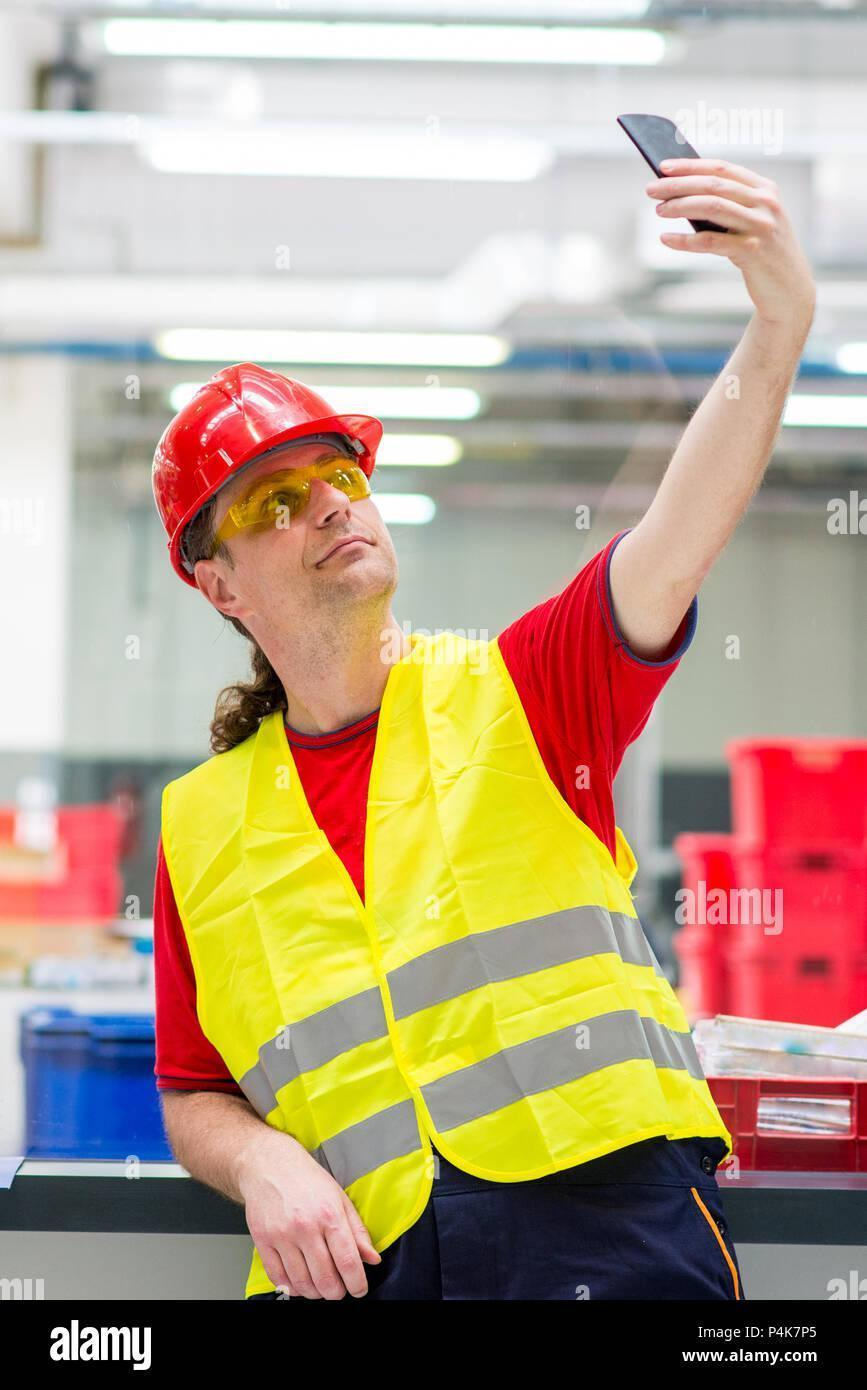helmet: (151, 361, 387, 566)
